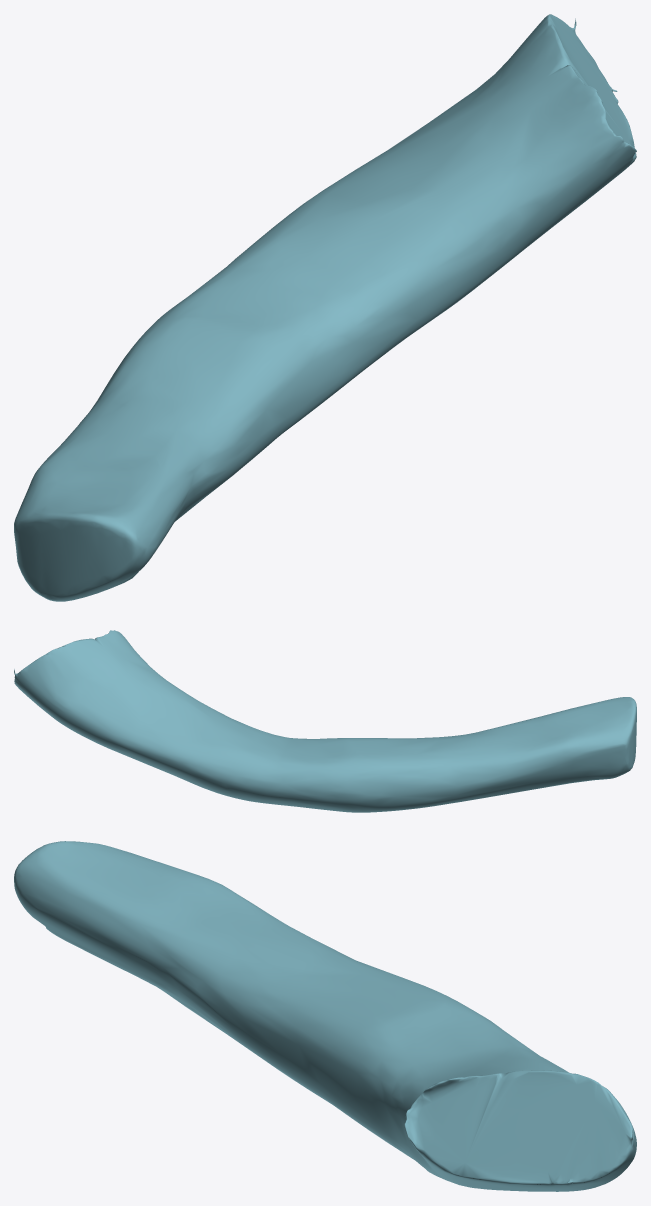
3 views of the same model, one above another, from view 1: azimuth 30°, elevation 25°; view 2: azimuth 150°, elevation 25°; view 3: azimuth 270°, elevation 25° (orthographic). The views are drawn at different scales.
Parts seen in each view (by area): view 1: 左侧第六肋软骨; view 2: 左侧第六肋软骨; view 3: 左侧第六肋软骨.
Boxes of the visible parts, x1=… form: 左侧第六肋软骨: x1=14, y1=14, x2=636, y2=601; 左侧第六肋软骨: x1=14, y1=630, x2=636, y2=812; 左侧第六肋软骨: x1=14, y1=841, x2=636, y2=1191.
Size of the model in its own units: 0.1217 by 0.0333 by 0.0821.
